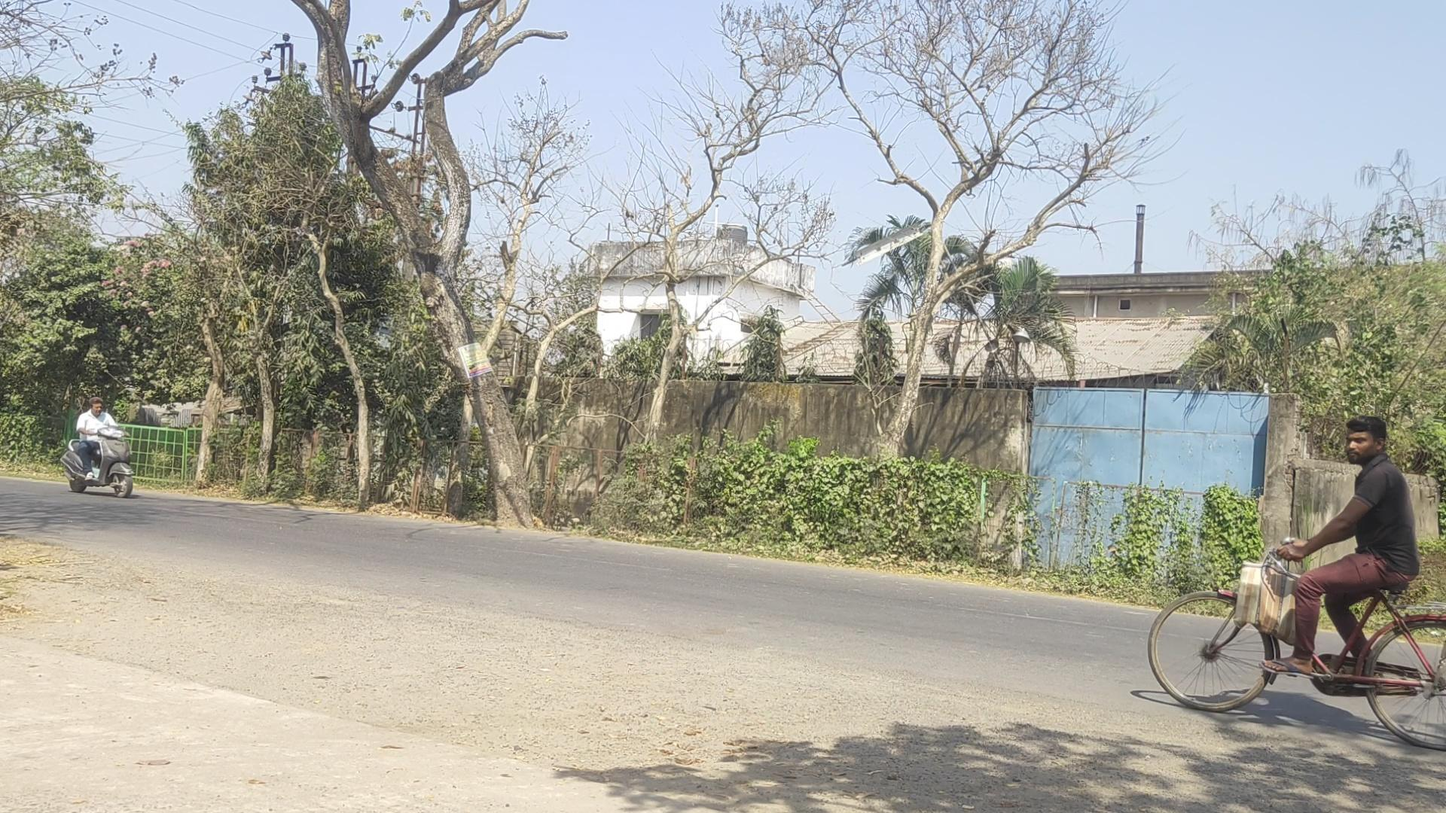bike: (1147, 416, 1446, 751), (61, 397, 133, 498)
